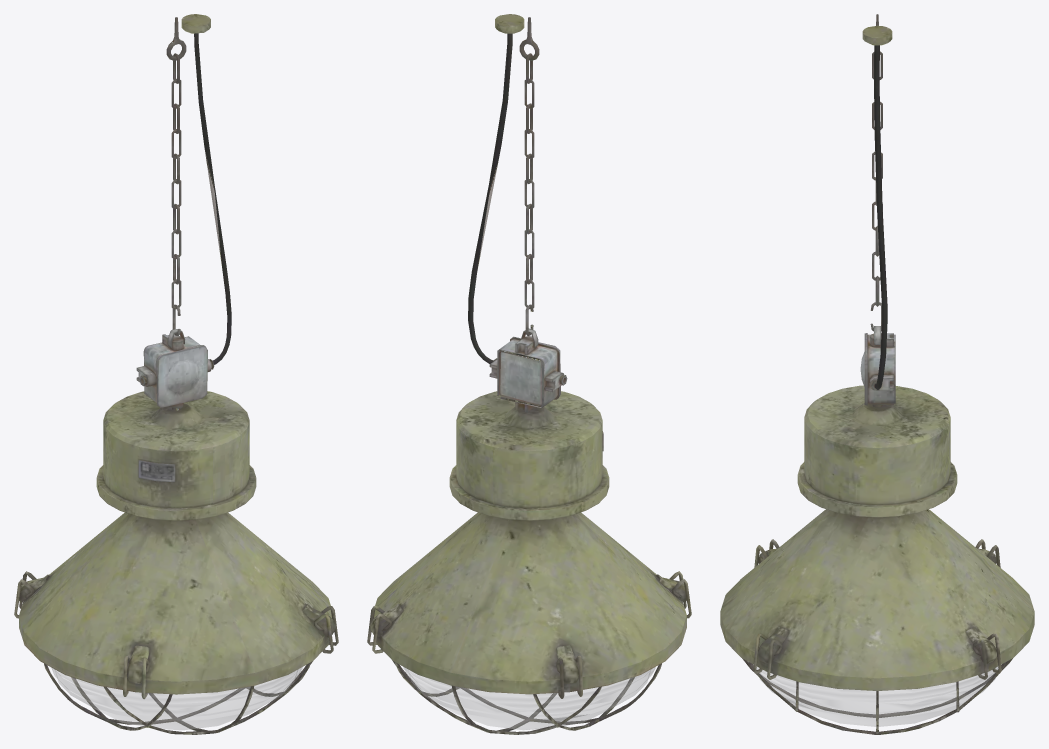
The model's file is hanging_industrial_lamp.glb.
3 renders of one model, left to right at view 1: azimuth 30°, elevation 25°; view 2: azimuth 150°, elevation 25°; view 3: azimuth 270°, elevation 25°, orthographic.
Visible parts, largest first — view 1: hanging_industrial_lamp; view 2: hanging_industrial_lamp; view 3: hanging_industrial_lamp.
Part boxes in pixels (bbox=[...]): hanging_industrial_lamp: bbox=[14, 14, 338, 734]; hanging_industrial_lamp: bbox=[367, 14, 691, 734]; hanging_industrial_lamp: bbox=[720, 14, 1034, 734].
Size of the model in its own units: 0.5497 by 1.36 by 0.5497.
Materials: 2 (1 with a texture image).
